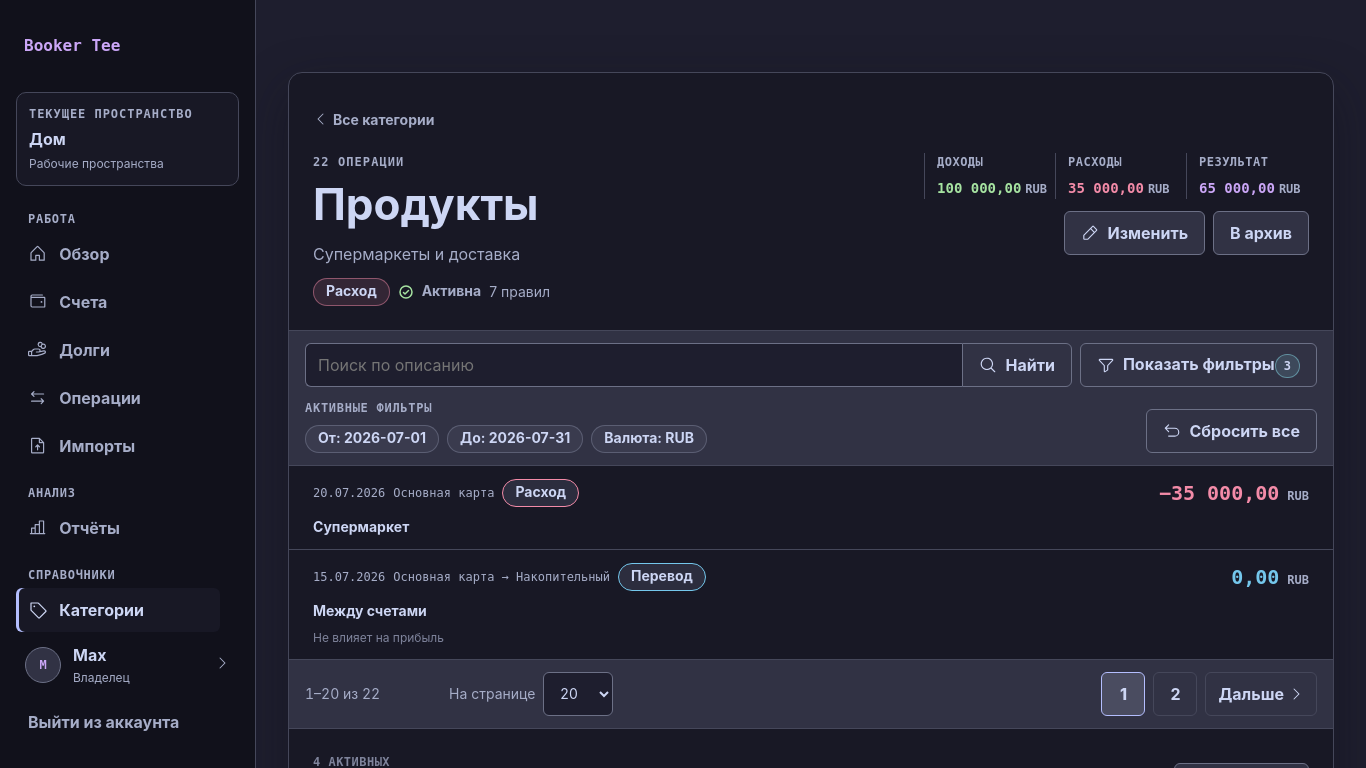
CategoryDetailPage › edits a custom category and replaces the authoritative detail
The image size is (1366, 768).
Click the button "Изменить" at (1135,233), box [1064,211,1205,255]
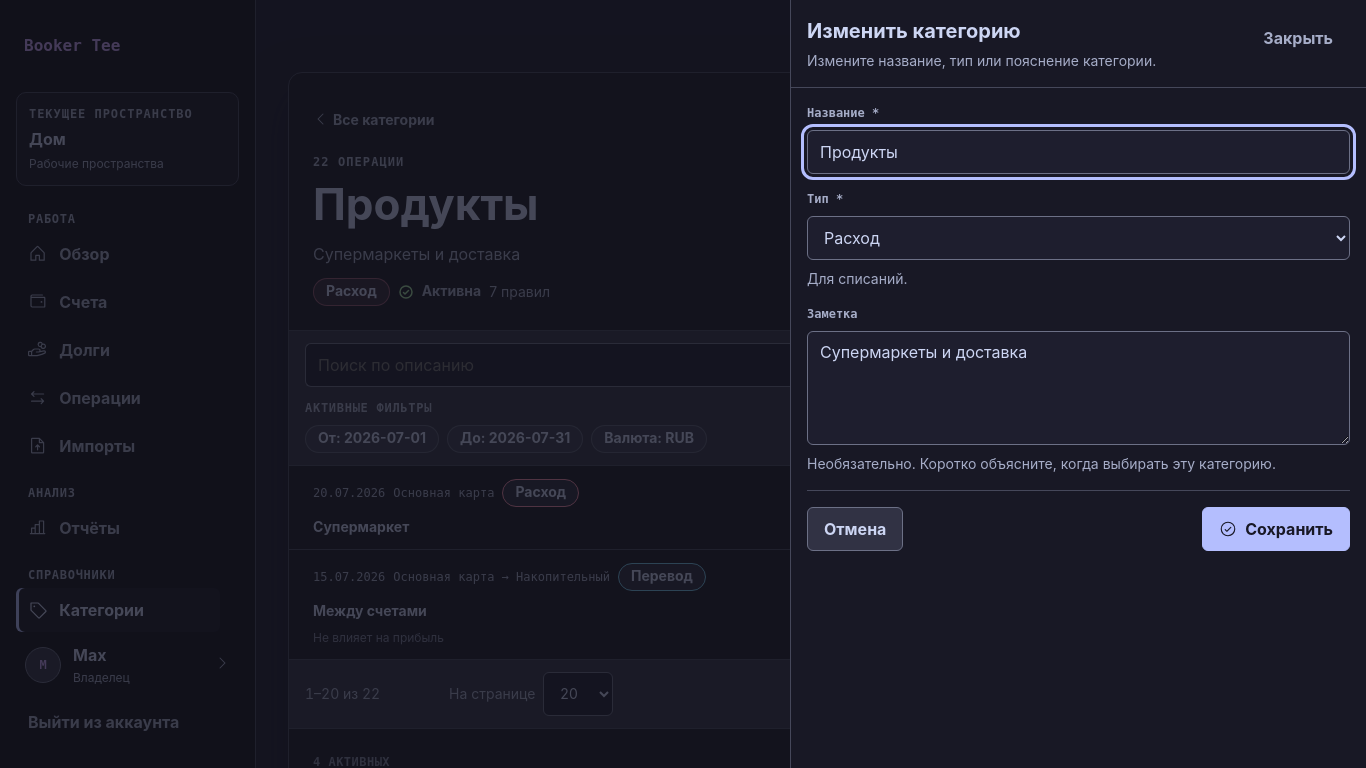
Result: the dialog "Изменить категорию" is shown at [790,0,1365,767]
Result: the button "Закрыть" is shown at [1246,16,1350,60]
Replace the text in the field labelled "Название *" with "Еда и покупки" at (1078,152), box [807,130,1350,174]
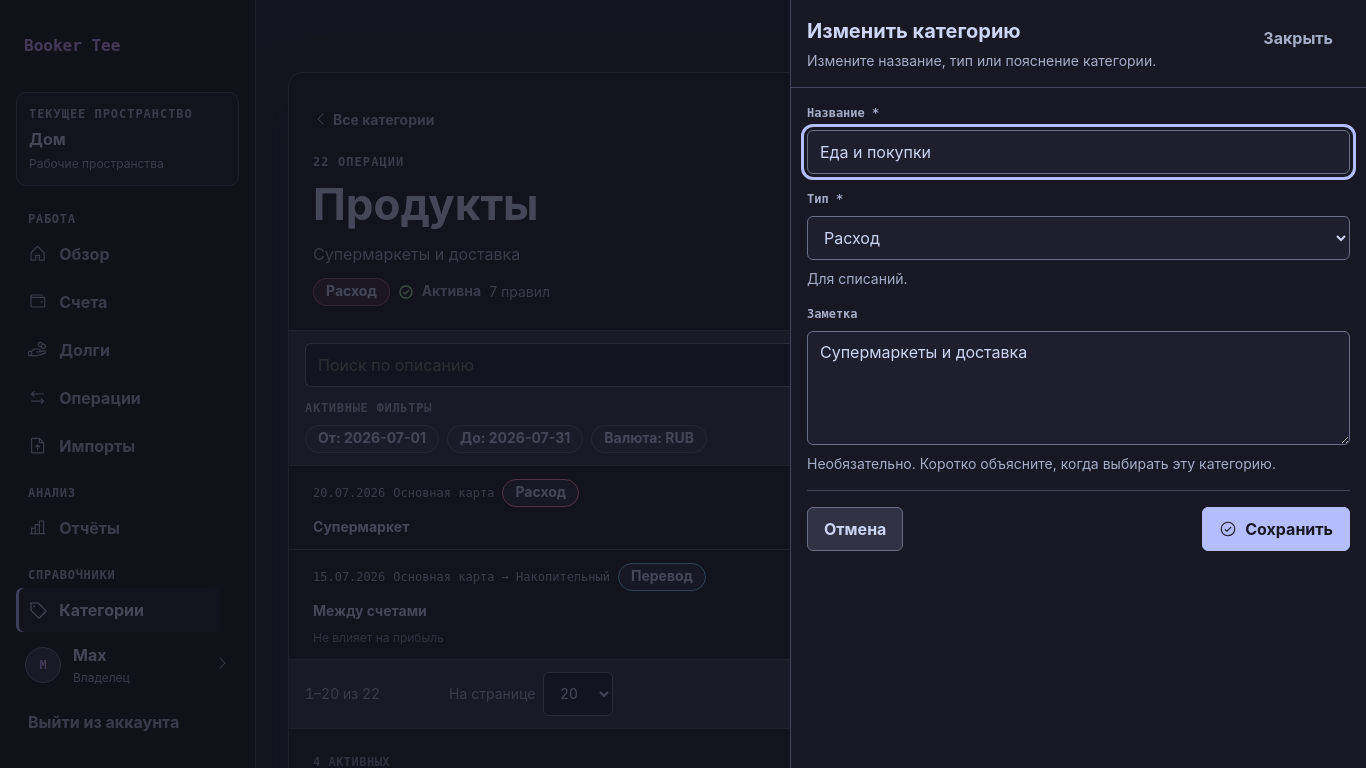
Replace the text in the text box labelled "Заметка" with "Покупки и возвраты" at (1078,388), box [807,331,1350,445]
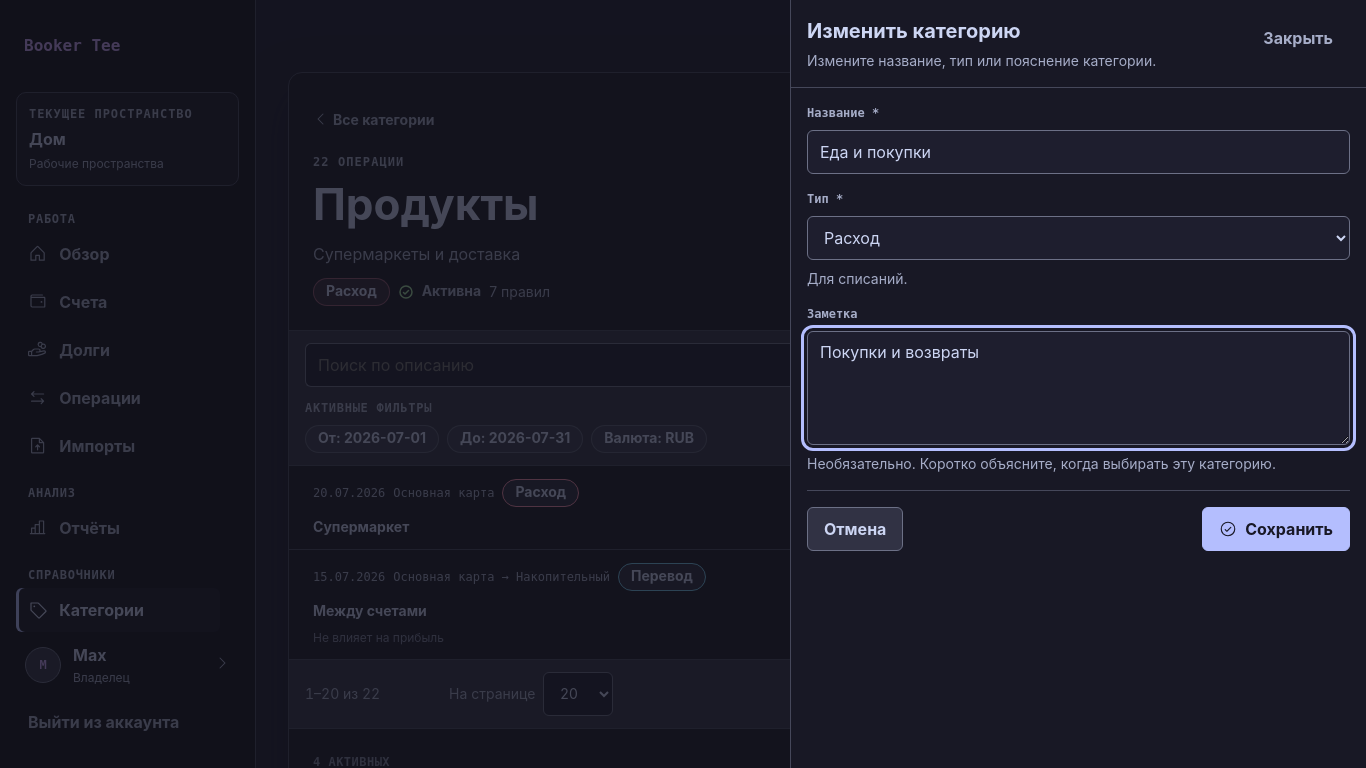
Click the button "Сохранить" at (1276,529), box [1202,507,1350,551]
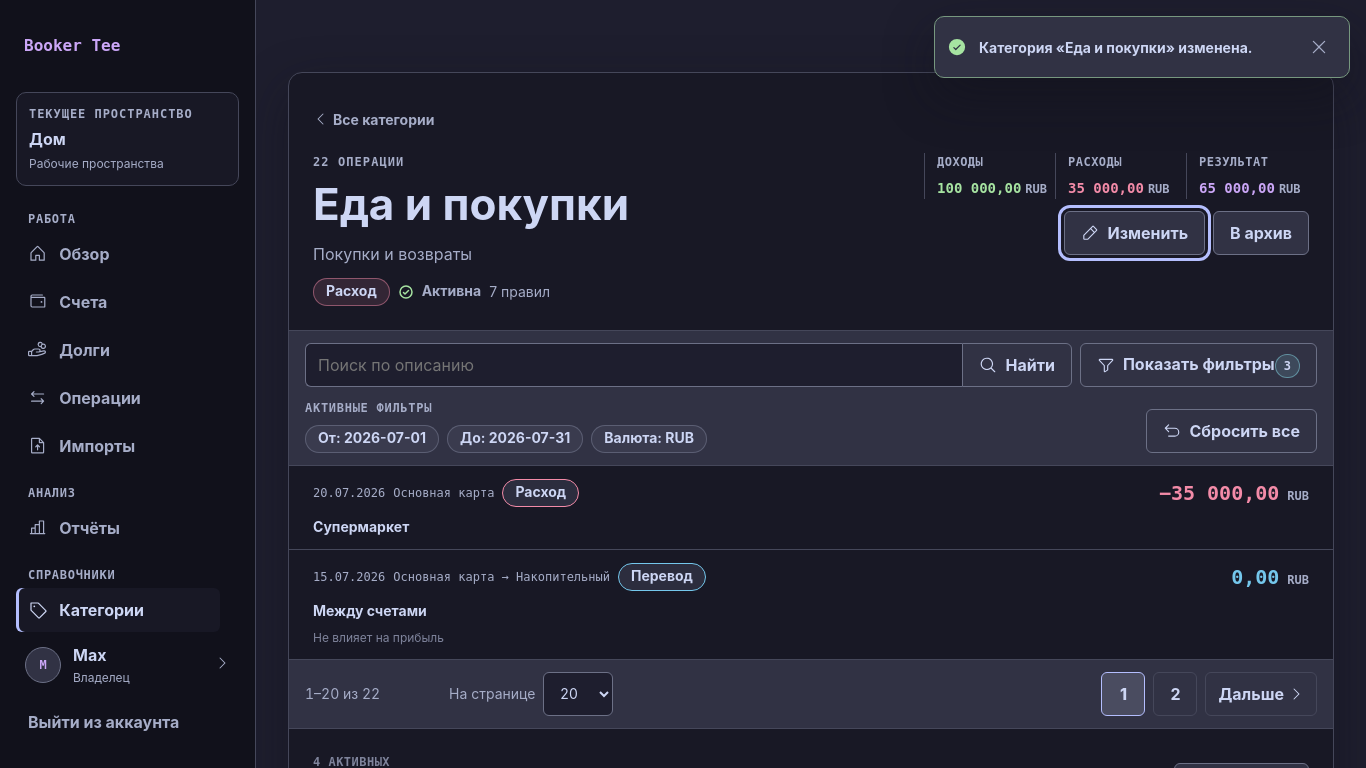
Result: the heading "Еда и покупки" is shown at [313,179,629,230]
Result: the text "Категория «Еда и покупки» изменена." is shown at [979,36,1285,58]
